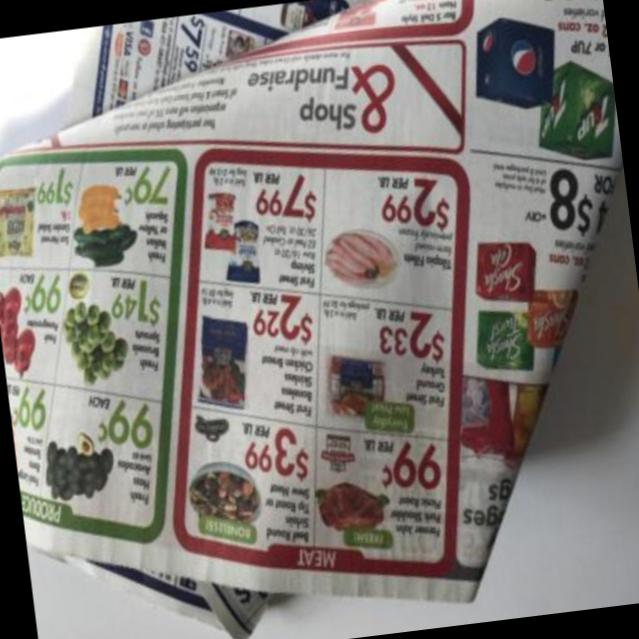cardboard paper: (0, 0, 621, 639)
